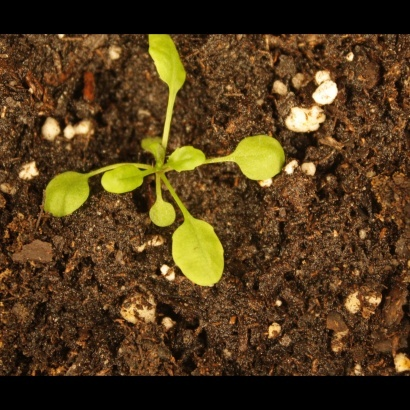leaf: (171, 213, 229, 286), (230, 131, 293, 188), (140, 29, 193, 96), (41, 170, 92, 226), (97, 160, 149, 196), (166, 143, 208, 176), (141, 132, 172, 168), (147, 196, 176, 229)
